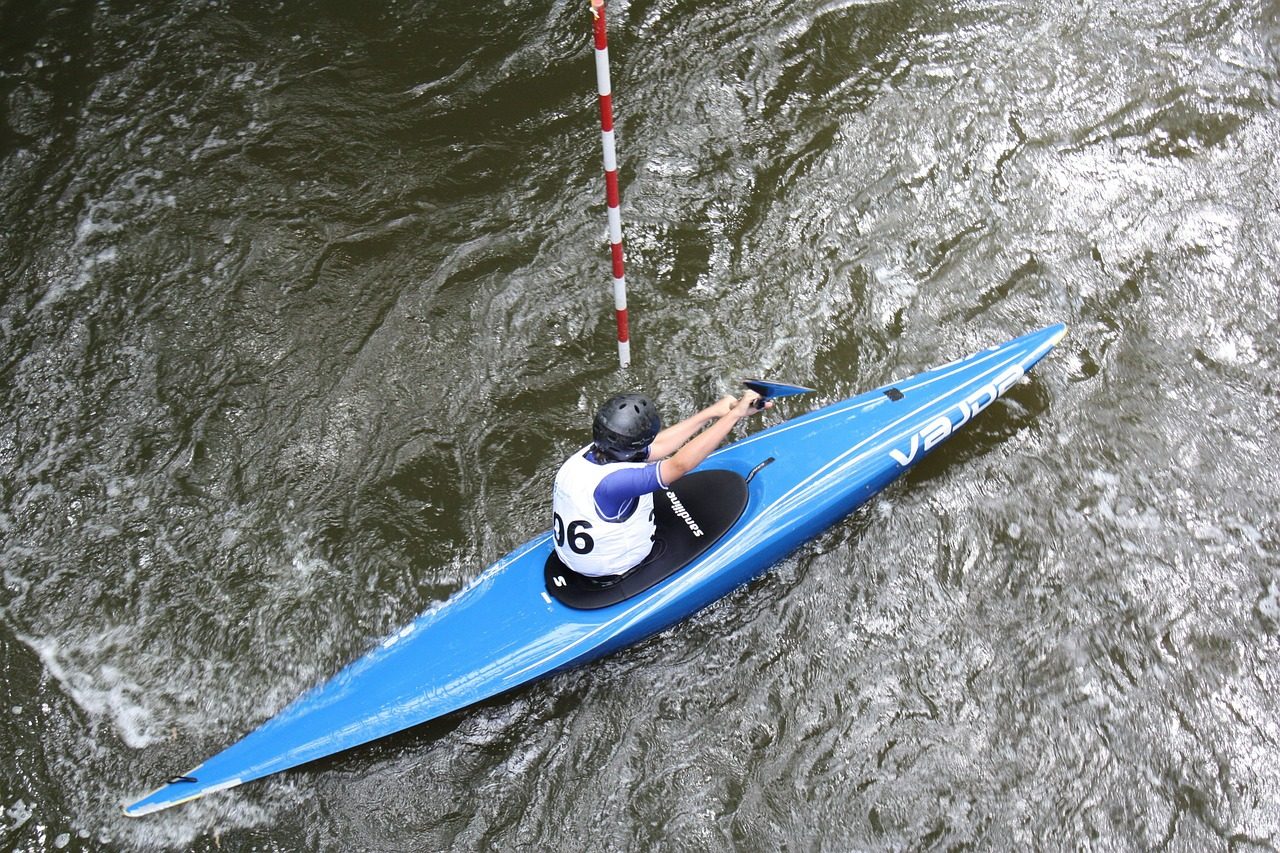kayak: (122, 318, 1073, 823)
